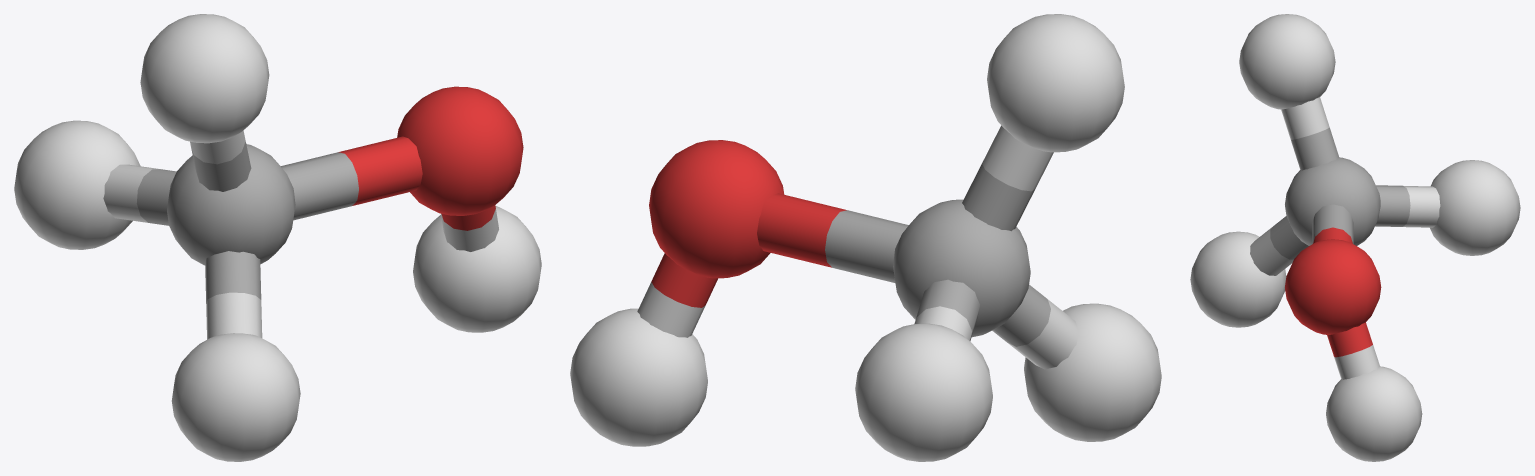
File: methanol-bas.glb
The picture shows the model from 3 angles, left to right: view 1: azimuth 30°, elevation 25°; view 2: azimuth 150°, elevation 25°; view 3: azimuth 270°, elevation 25°; orthographic projection. The views are drawn at different scales.
Visible parts, largest first — view 1: methanol-bas; view 2: methanol-bas; view 3: methanol-bas.
Boxes of the visible parts, x1,y1,x2,y2 form: methanol-bas: (14, 14, 541, 461); methanol-bas: (570, 14, 1161, 461); methanol-bas: (1190, 14, 1520, 461).
Bounding box in the file's own units: 2.77 × 2.56 × 2.4.
